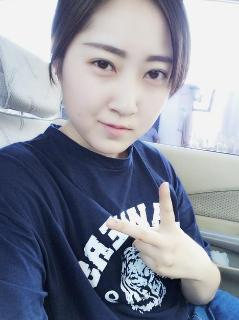long sleeve top: (0, 123, 214, 319)
